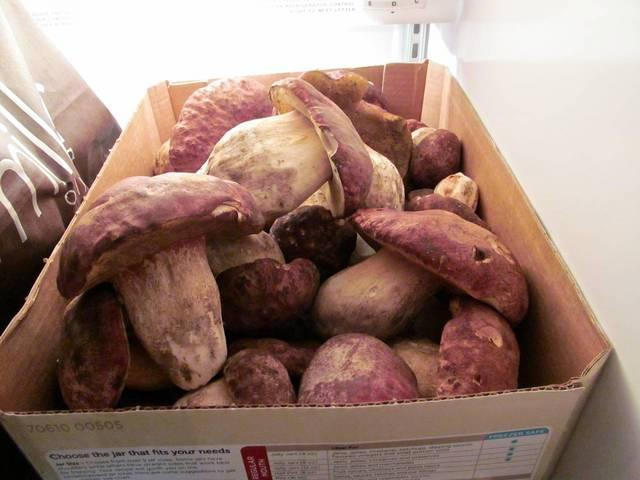edible_mushroom: (52, 68, 530, 408)
